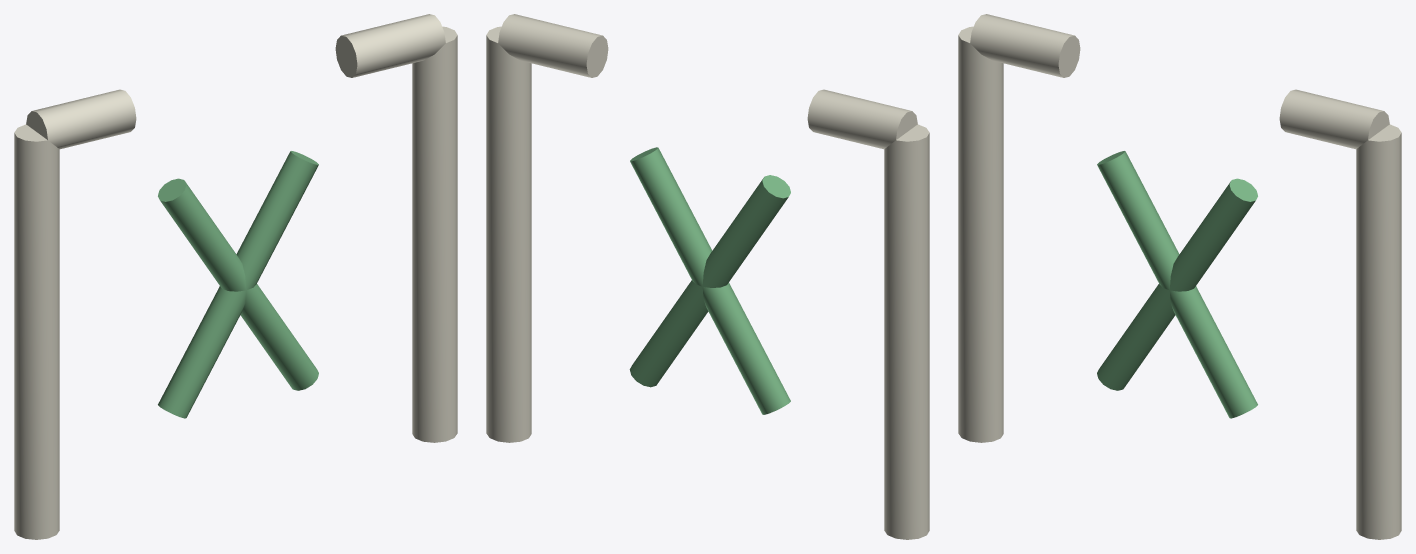
Rendered from ceil.glb.
3 views of the same model, side by side, from view 1: azimuth 30°, elevation 25°; view 2: azimuth 150°, elevation 25°; view 3: azimuth 330°, elevation 25° (orthographic).
Bounding box in the file's own units: 23 × 21 × 2.
